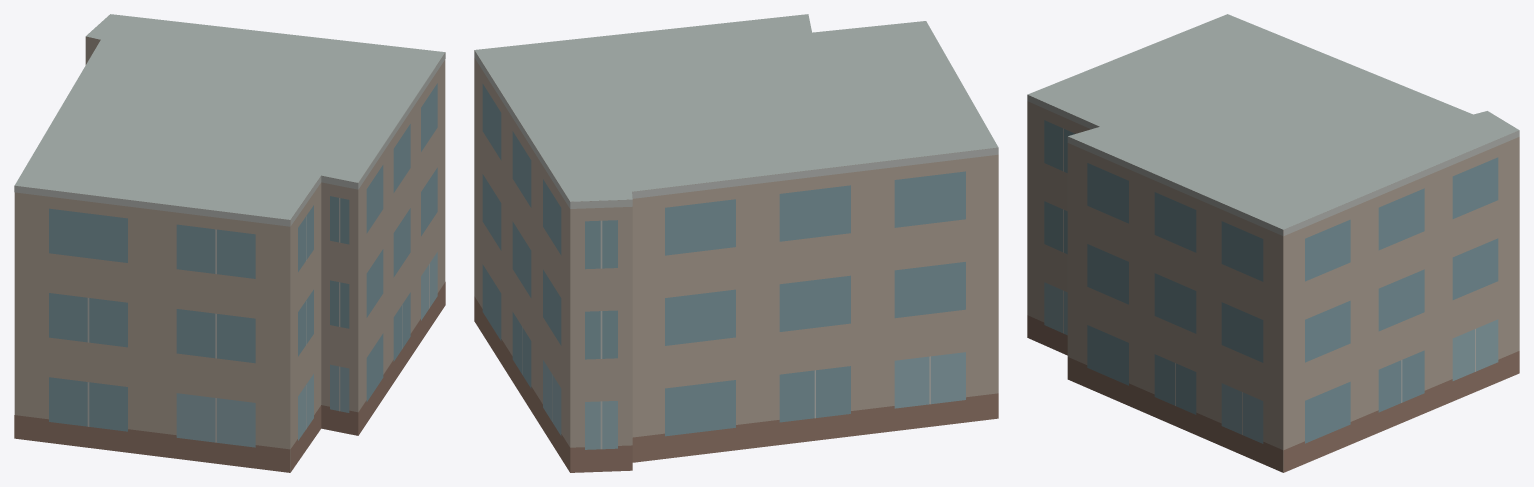
File: survey-upis-32919322.glb
3 views of the same model, side by side, from view 1: azimuth 30°, elevation 25°; view 2: azimuth 150°, elevation 25°; view 3: azimuth 270°, elevation 25° (orthographic). The views are drawn at different scales.
Parts seen in each view (by area): view 1: survey-upis-32919322.tmp; view 2: survey-upis-32919322.tmp; view 3: survey-upis-32919322.tmp.
Part boxes in pixels (<box>): survey-upis-32919322.tmp: <box>14,14,445,472</box>; survey-upis-32919322.tmp: <box>474,14,998,472</box>; survey-upis-32919322.tmp: <box>1027,14,1519,472</box>.
Size of the model in its own units: 17.43 by 9.15 by 16.8.
